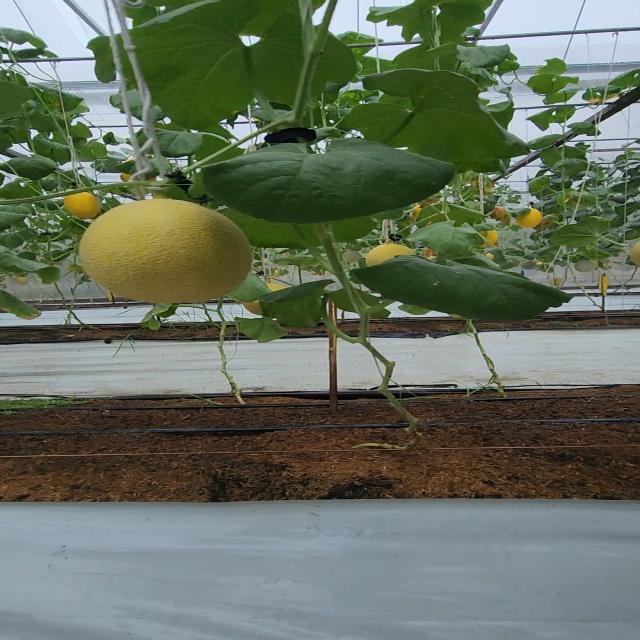Front-melon: (80, 197, 251, 305)
Rear-melon: (69, 190, 94, 215)
